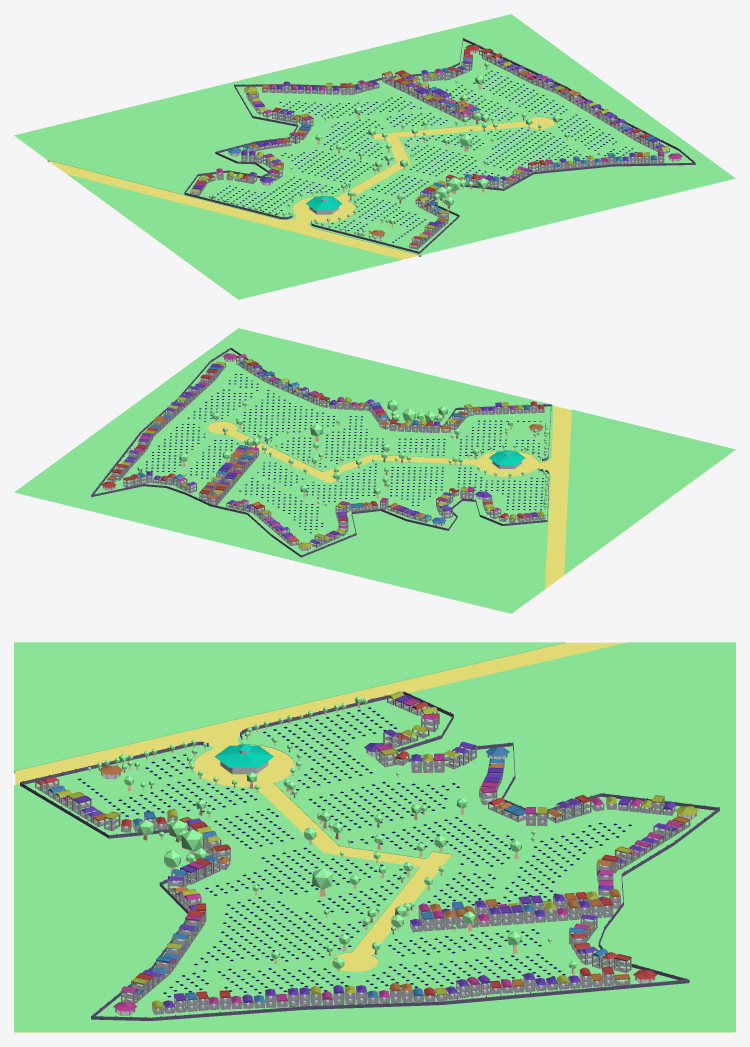
Rendered from my-3dmap.glb.
The picture shows the model from 3 angles, top to bottom: view 1: azimuth 30°, elevation 25°; view 2: azimuth 150°, elevation 25°; view 3: azimuth 270°, elevation 25°; orthographic projection. The views are drawn at different scales.
Size of the model in its own units: 308 by 13.39 by 241.
